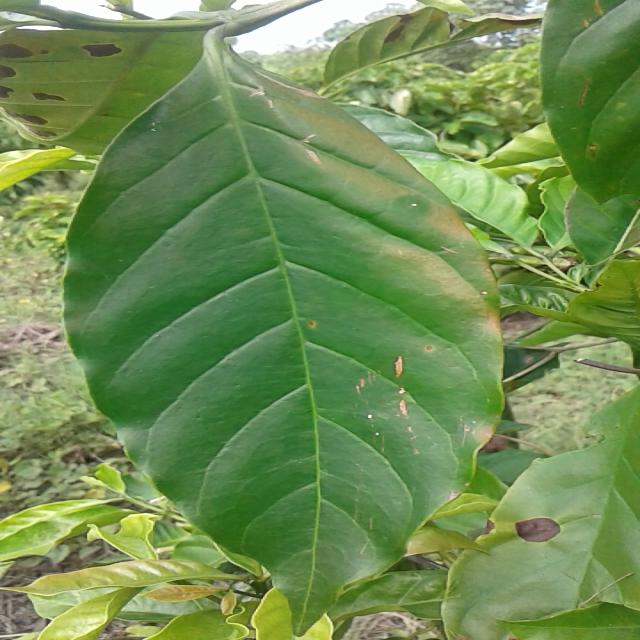Enfermedad-Roya: (60, 29, 507, 623)
